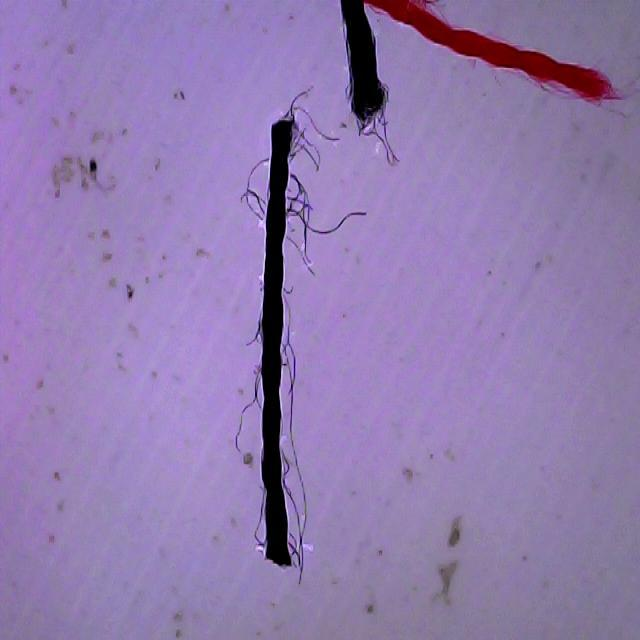fibers: (360, 0, 626, 114), (260, 119, 293, 567), (338, 0, 386, 122)
